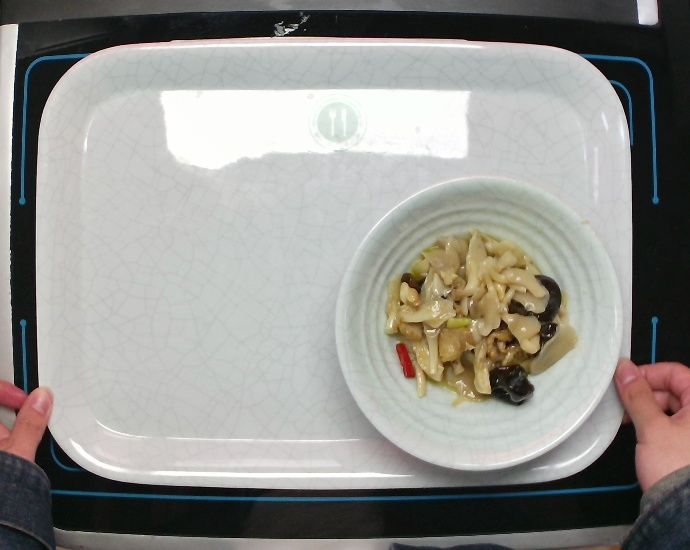JYsf-Xiao_Tang_Wan: (329, 170, 627, 476)
